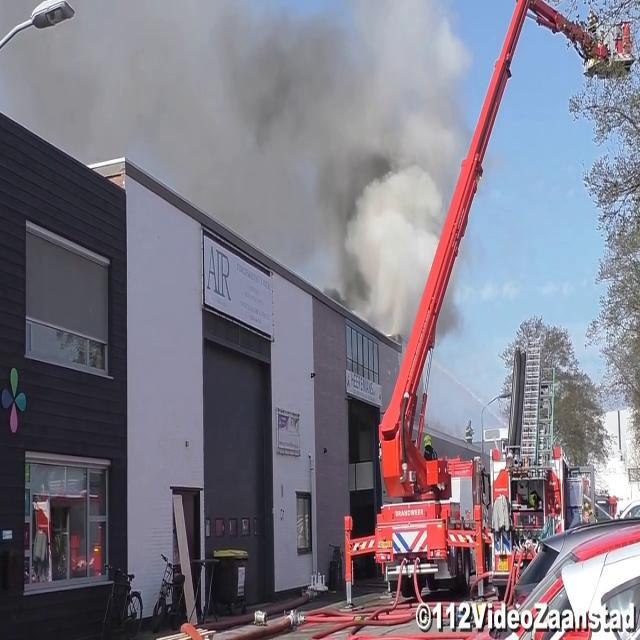Smoke: (213, 0, 484, 366)
